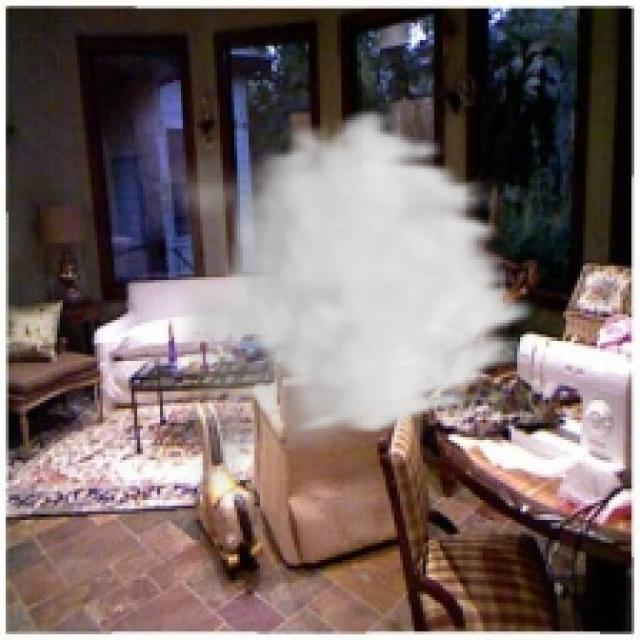Smoke: (148, 106, 543, 506)
